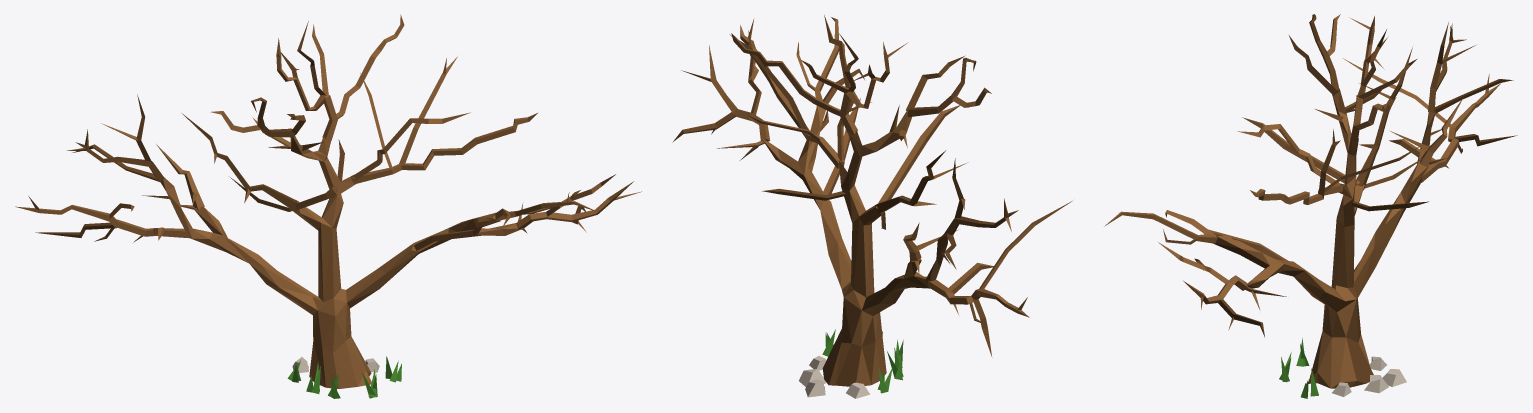
File: guayacan_1_bare.glb
The picture shows the model from 3 angles, left to right: view 1: azimuth 30°, elevation 25°; view 2: azimuth 150°, elevation 25°; view 3: azimuth 270°, elevation 25°; orthographic projection. The views are drawn at different scales.
Visible parts, largest first — view 1: guayacan_1_bare; view 2: guayacan_1_bare; view 3: guayacan_1_bare.
Boxes of the visible parts, x1=… form: guayacan_1_bare: x1=15, y1=14, x2=641, y2=398; guayacan_1_bare: x1=672, y1=15, x2=1072, y2=398; guayacan_1_bare: x1=1104, y1=14, x2=1517, y2=398.
Size of the model in its own units: 9.05 by 6.2 by 6.74.
